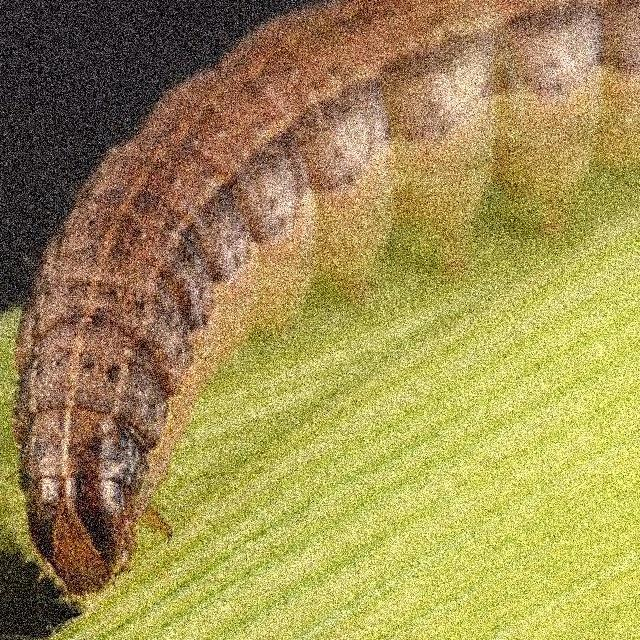Plaga: (1, 1, 640, 605)
